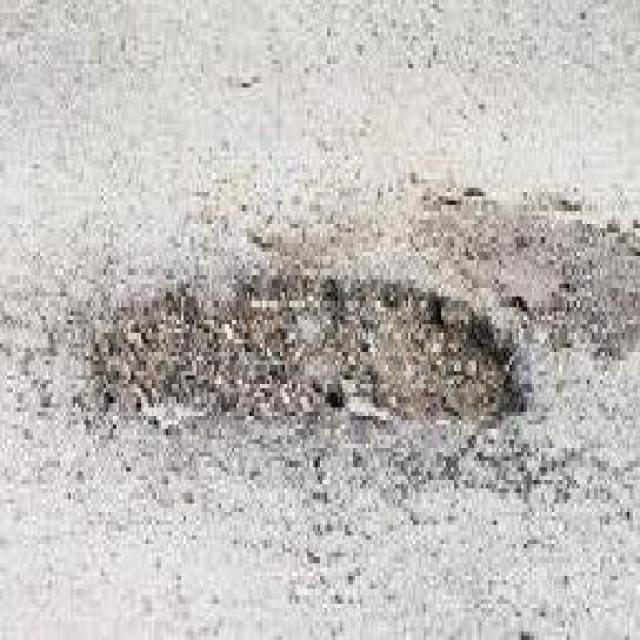Pothole: (88, 259, 532, 434)
